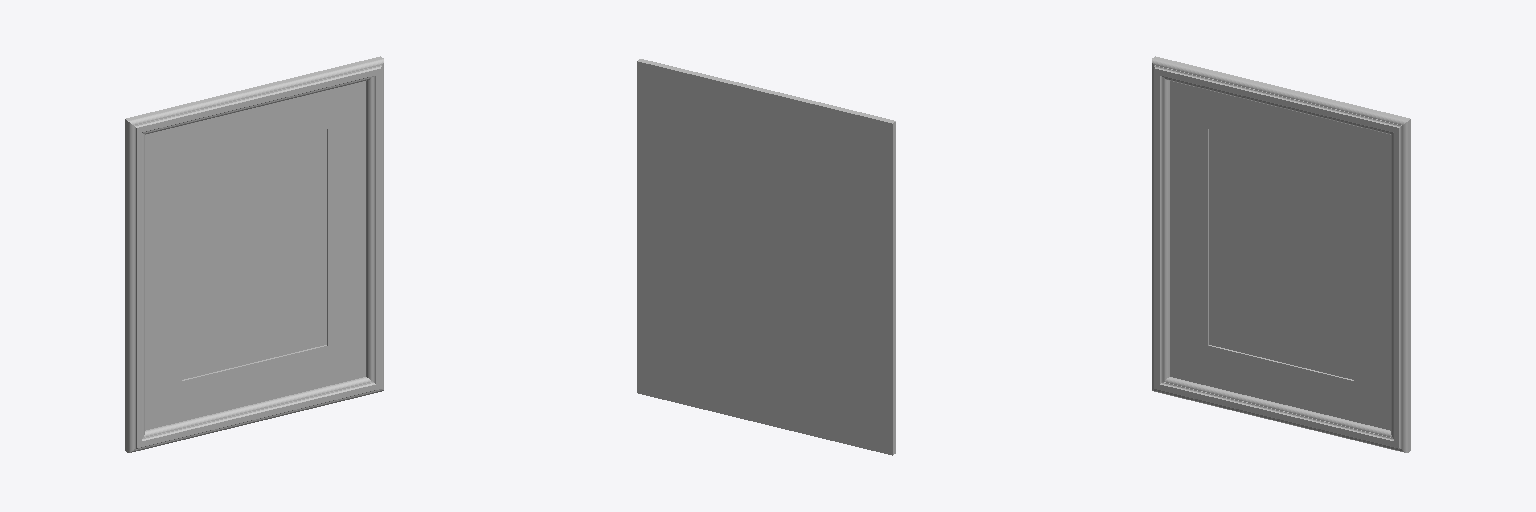
File: Moldura Sketchfab.obj
The picture shows the model from 3 angles: view 1: azimuth 30°, elevation 25°; view 2: azimuth 150°, elevation 25°; view 3: azimuth 330°, elevation 25°; orthographic projection.
Parts seen in each view (by area): view 1: Mesh; view 2: Mesh; view 3: Mesh.
Part boxes in pixels (x1,y1,x2,y2): Mesh: (125,56,383,452); Mesh: (637,59,895,455); Mesh: (1152,56,1410,452).
Bounding box in the file's own units: 1.92 × 2.38 × 0.0853.